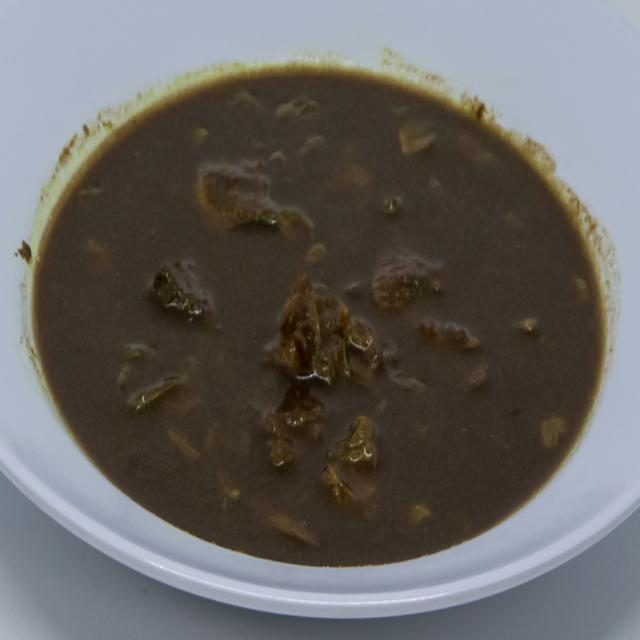Rawon-Surabaya: (33, 42, 611, 574)
